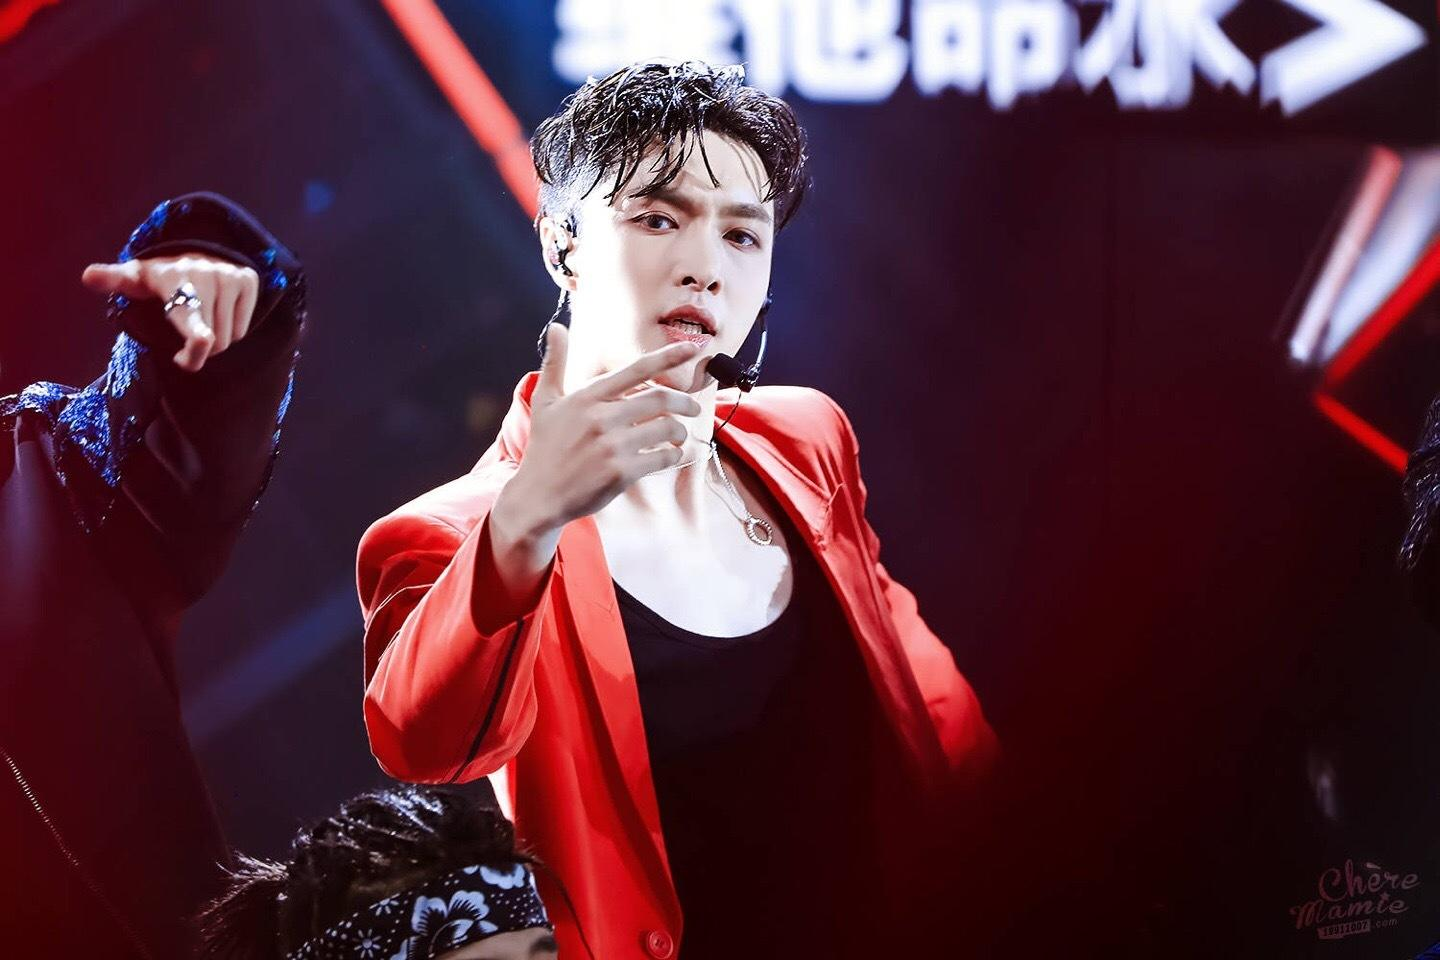person: (347, 53, 1008, 952), (1, 169, 310, 942), (194, 777, 563, 960)
